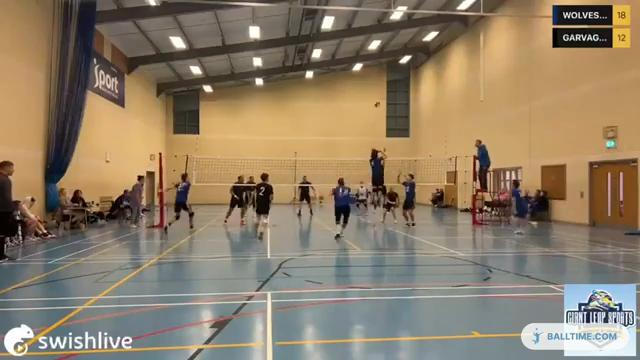attacco: (364, 143, 389, 210)
